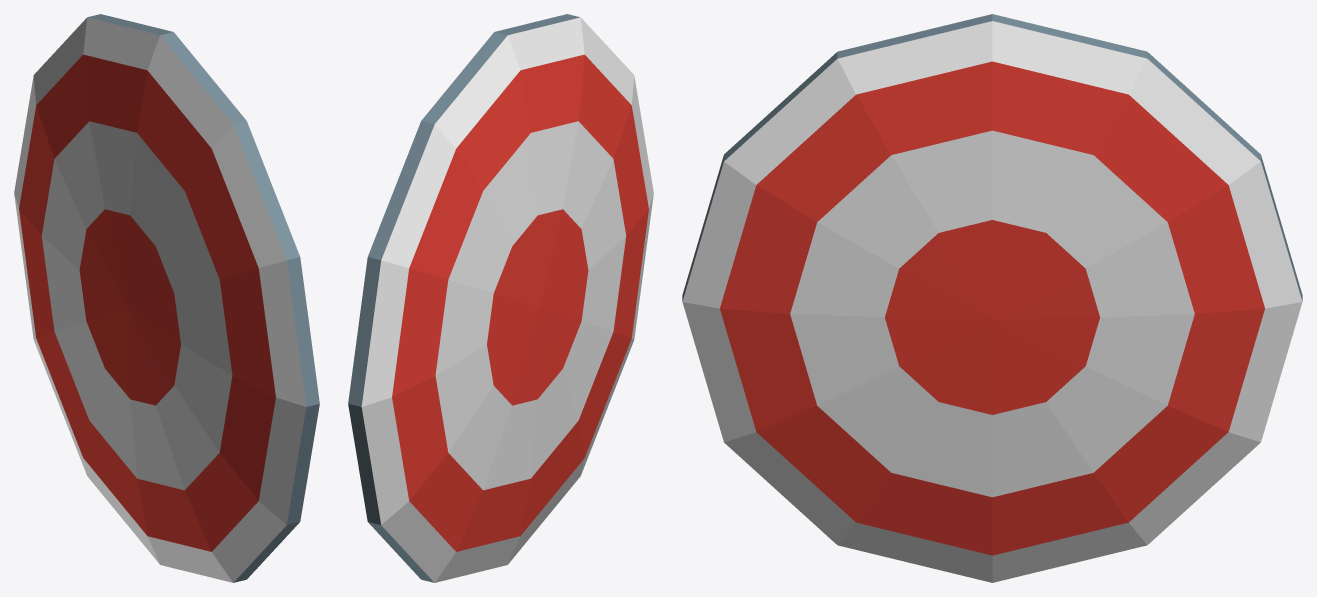
Rendered from Target.obj.
The picture shows the model from 3 angles, left to right: view 1: azimuth 30°, elevation 25°; view 2: azimuth 150°, elevation 25°; view 3: azimuth 270°, elevation 25°; orthographic projection. The views are drawn at different scales.
Parts seen in each view (by area): view 1: group1391795015; view 2: group1391795015; view 3: group1391795015.
Part boxes in pixels (x1,y1,x2,y2): group1391795015: (14, 14, 319, 582); group1391795015: (348, 14, 653, 582); group1391795015: (682, 14, 1302, 582).
Size of the model in its own units: 0.02 by 0.1297 by 0.1297.
